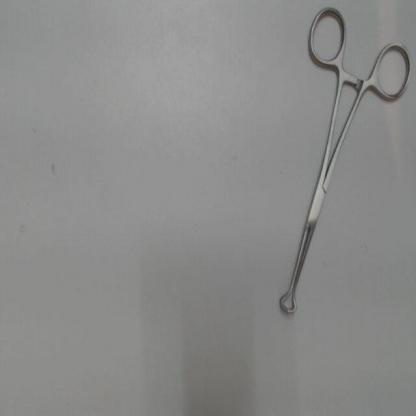Babcock Tissue Forceps: (277, 2, 415, 318)
